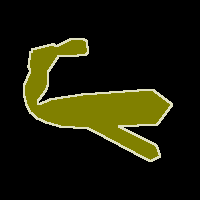tie: (24, 38, 172, 161)
